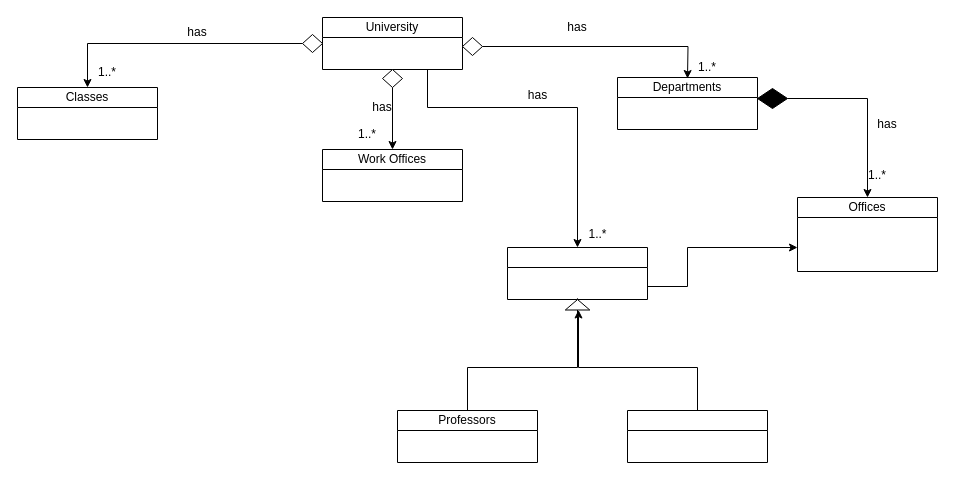
Image size: 955x480. Some labels were removed from this diagram. The centre of each missing label's shape, as x and y in pixels:
Employees: the point at 577,273
Officers: the point at 697,436
